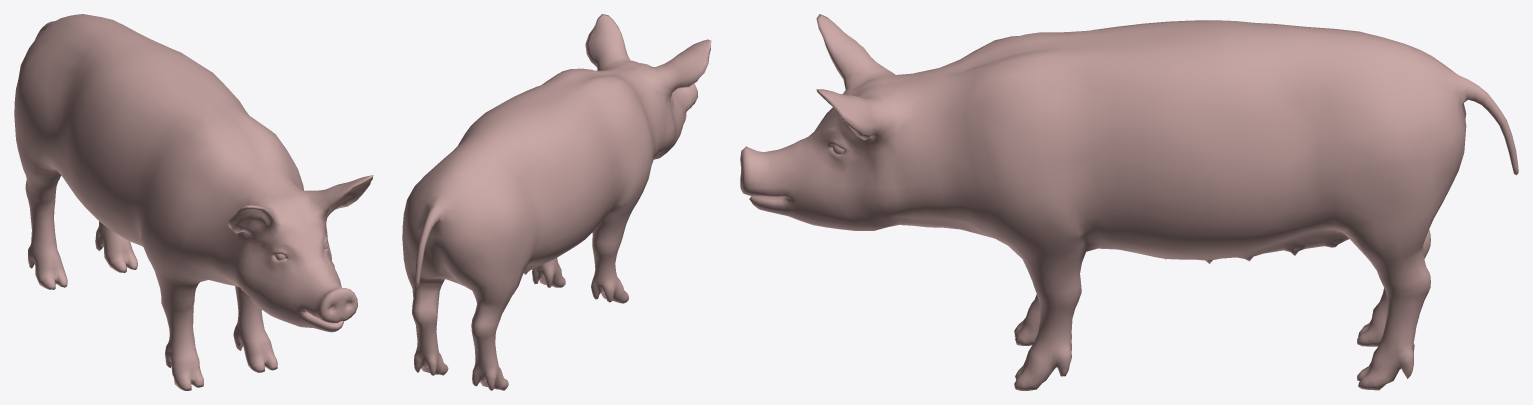
The model's file is Cerdo.fbx.
3 views of the same model, side by side, from view 1: azimuth 30°, elevation 25°; view 2: azimuth 150°, elevation 25°; view 3: azimuth 270°, elevation 25° (orthographic). The views are drawn at different scales.
Visible parts, largest first — view 1: Box001; view 2: Box001; view 3: Box001.
Boxes of the visible parts, x1,y1,x2,y2 form: Box001: [14, 14, 373, 390]; Box001: [402, 14, 711, 390]; Box001: [740, 14, 1518, 390].
Bounding box in the file's own units: 139 × 235 × 500.
